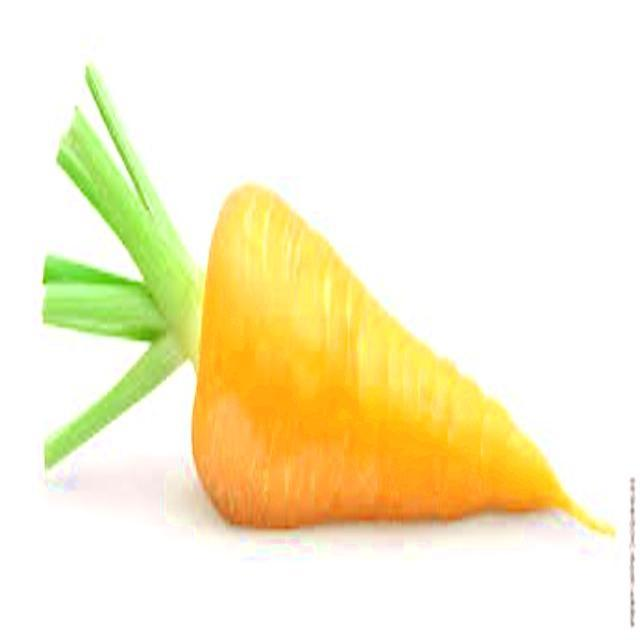carrot: (44, 68, 614, 533)
